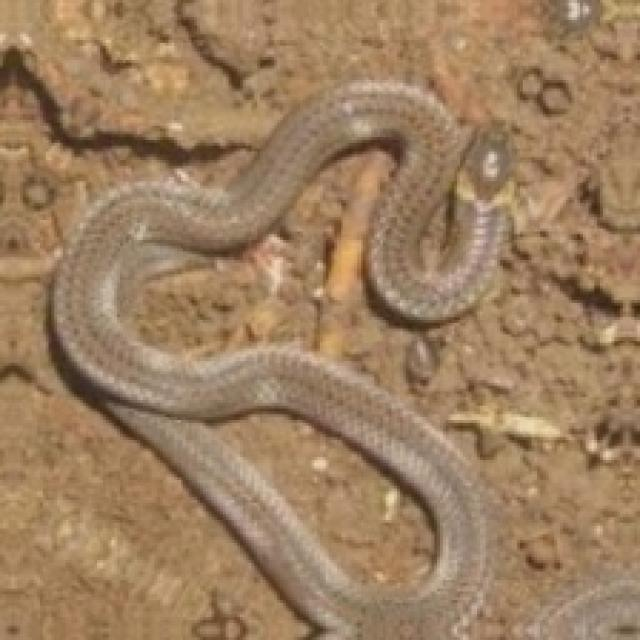gervais worm snake: (51, 80, 509, 637), (171, 409, 437, 591)
